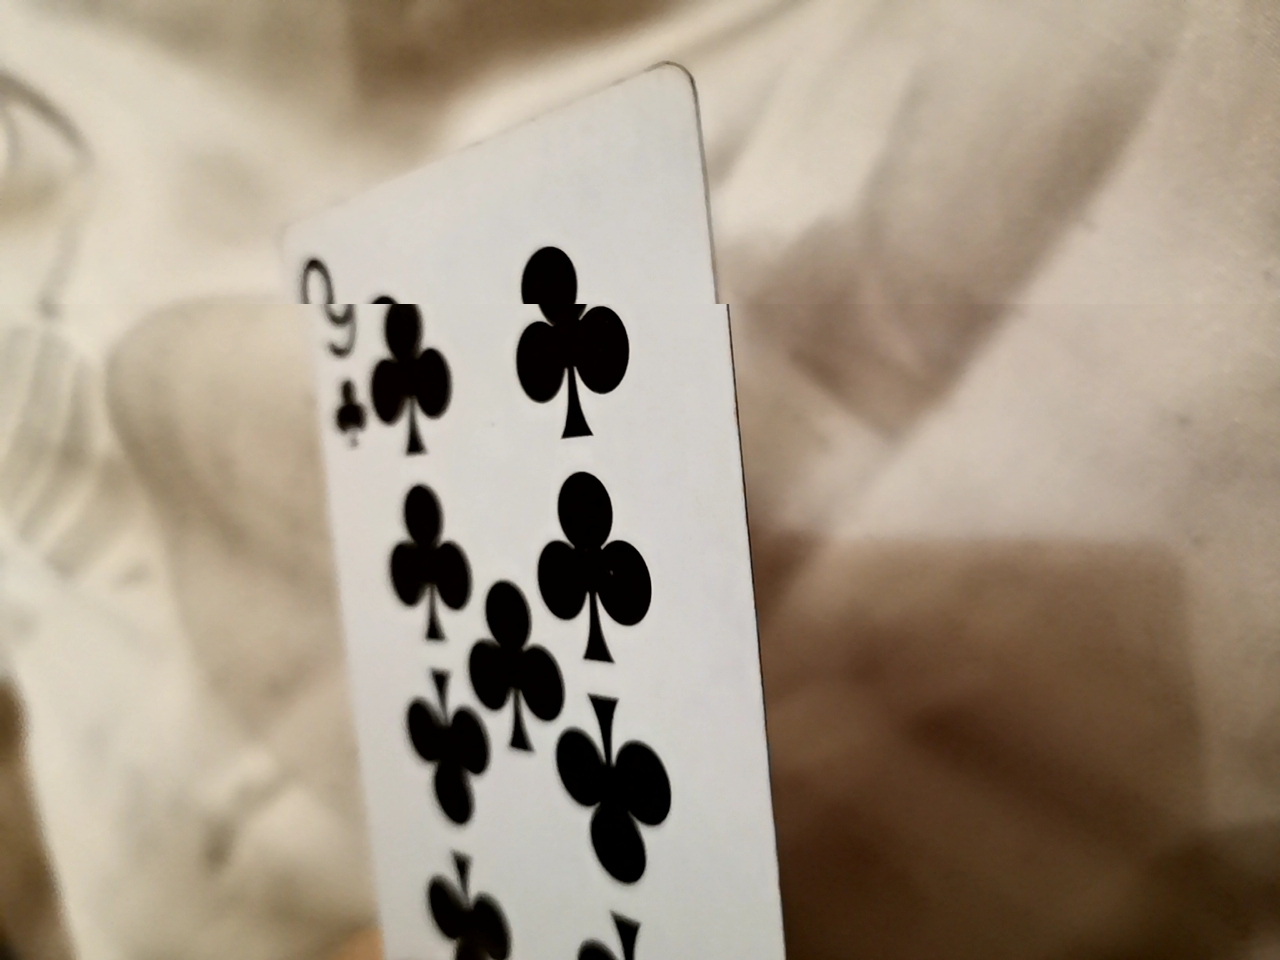mh 9: (268, 62, 805, 960)
